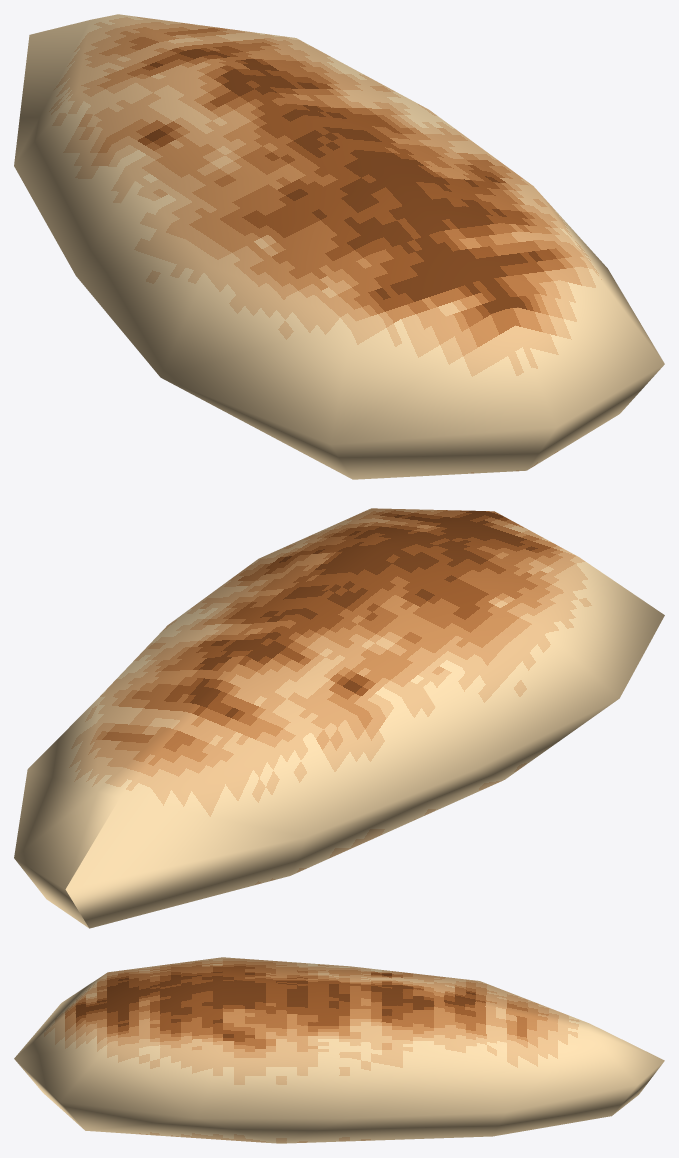
Rendered from Dev_Fillet.fbx.
The picture shows the model from 3 angles, top to bottom: view 1: azimuth 30°, elevation 25°; view 2: azimuth 150°, elevation 25°; view 3: azimuth 270°, elevation 25°; orthographic projection. The views are drawn at different scales.
Visible parts, largest first — view 1: PoultryFillet; view 2: PoultryFillet; view 3: PoultryFillet.
Part boxes in pixels (x1,y1,x2,y2): PoultryFillet: (14,14,664,479); PoultryFillet: (14,508,664,928); PoultryFillet: (14,957,664,1143).
Size of the model in its own units: 25.07 by 9.99 by 51.85.
